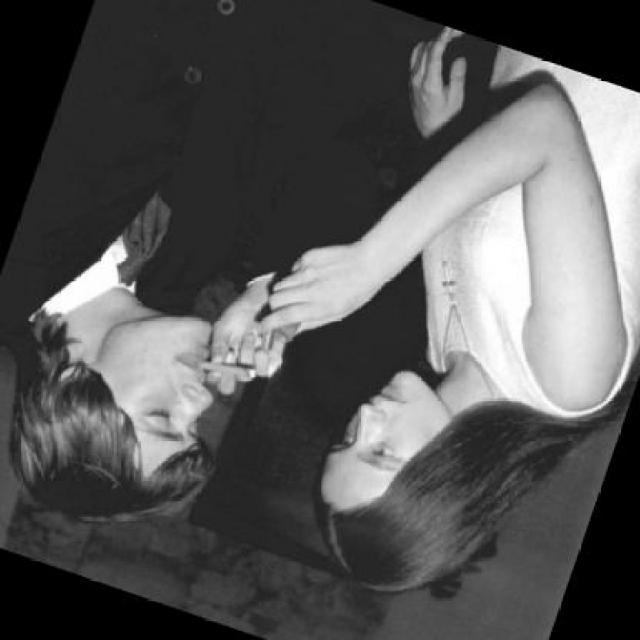cigarette: (191, 344, 260, 390)
